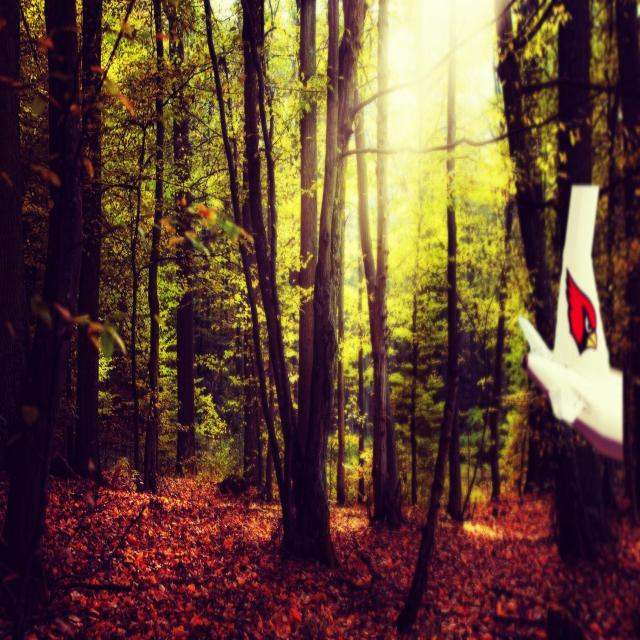airplane: (517, 183, 625, 462)
